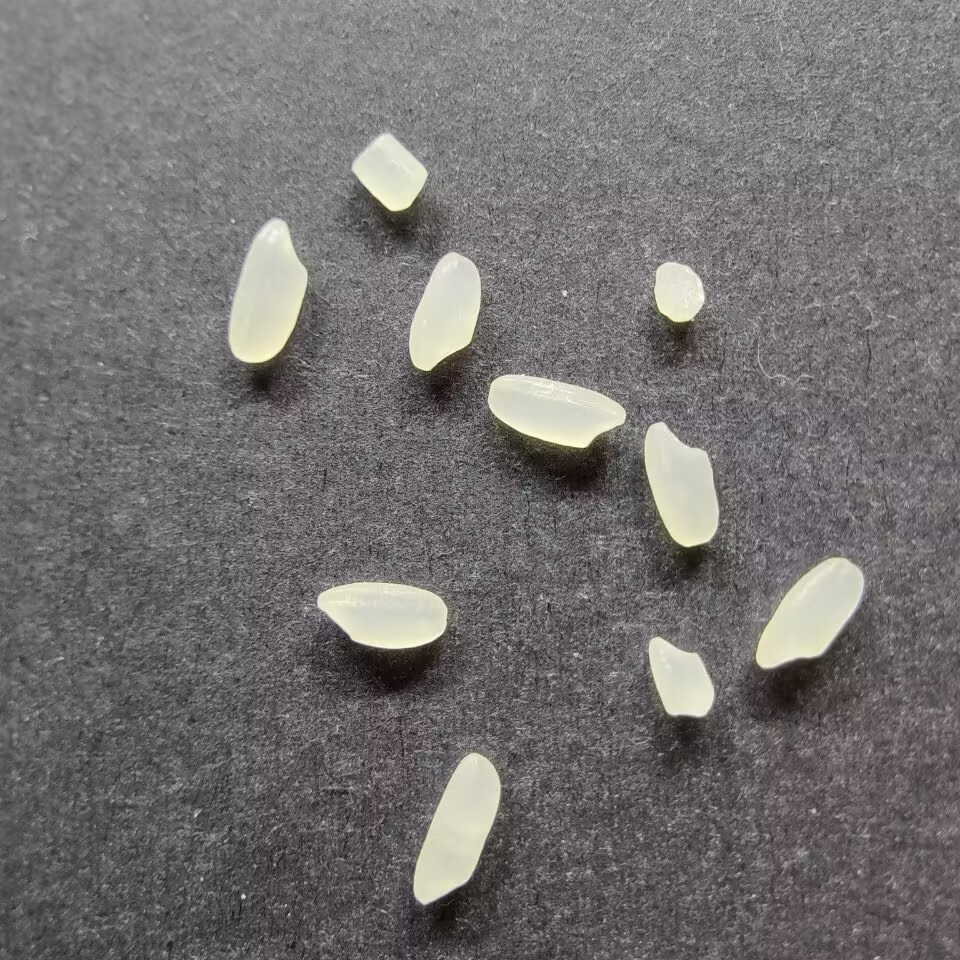broken: (349, 131, 428, 213), (646, 634, 716, 721), (650, 260, 706, 323)
rice: (409, 750, 503, 907), (752, 555, 866, 670), (225, 215, 310, 363), (485, 372, 627, 449), (642, 420, 720, 548), (314, 579, 449, 649), (406, 251, 482, 371)
